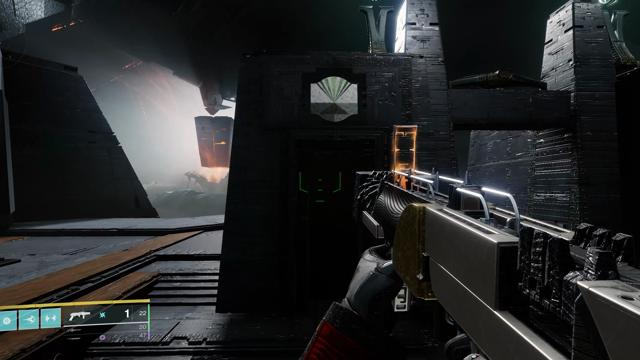commune: (310, 76, 358, 122)
